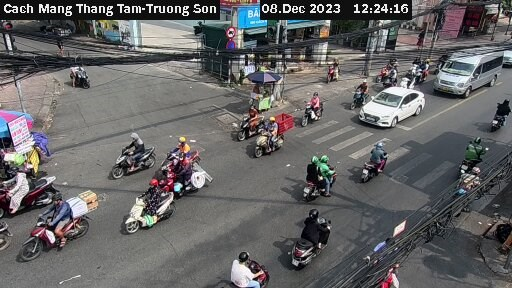car: (438, 44, 502, 98), (361, 78, 428, 129), (502, 44, 512, 63)
motorbike: (21, 196, 97, 251), (118, 183, 189, 229), (284, 211, 343, 262), (221, 245, 278, 288), (1, 165, 55, 210), (295, 152, 342, 201), (356, 134, 401, 185), (100, 133, 160, 167), (150, 144, 205, 173), (285, 91, 324, 131), (455, 133, 488, 177), (62, 61, 103, 94), (346, 79, 380, 108), (319, 58, 350, 86), (488, 92, 512, 126)
